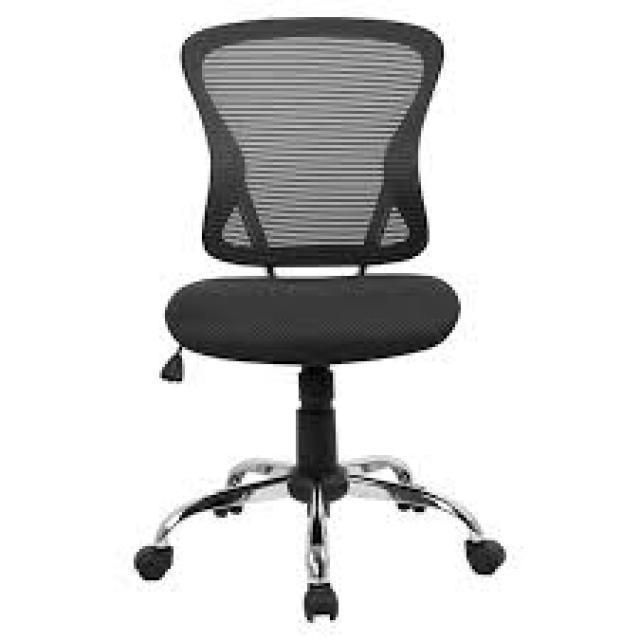chair: (132, 18, 506, 620)
